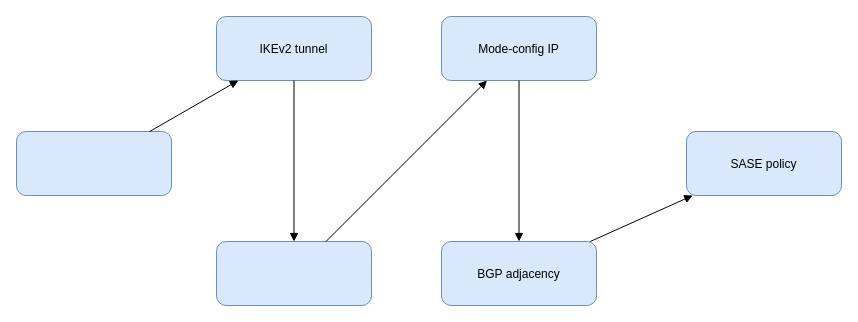
This 858x322 diagram has some shape labels left out. Each missing label, with the centre of its shape:
Branch WAN: the point at 94,163
SASE PoP: the point at 294,273
